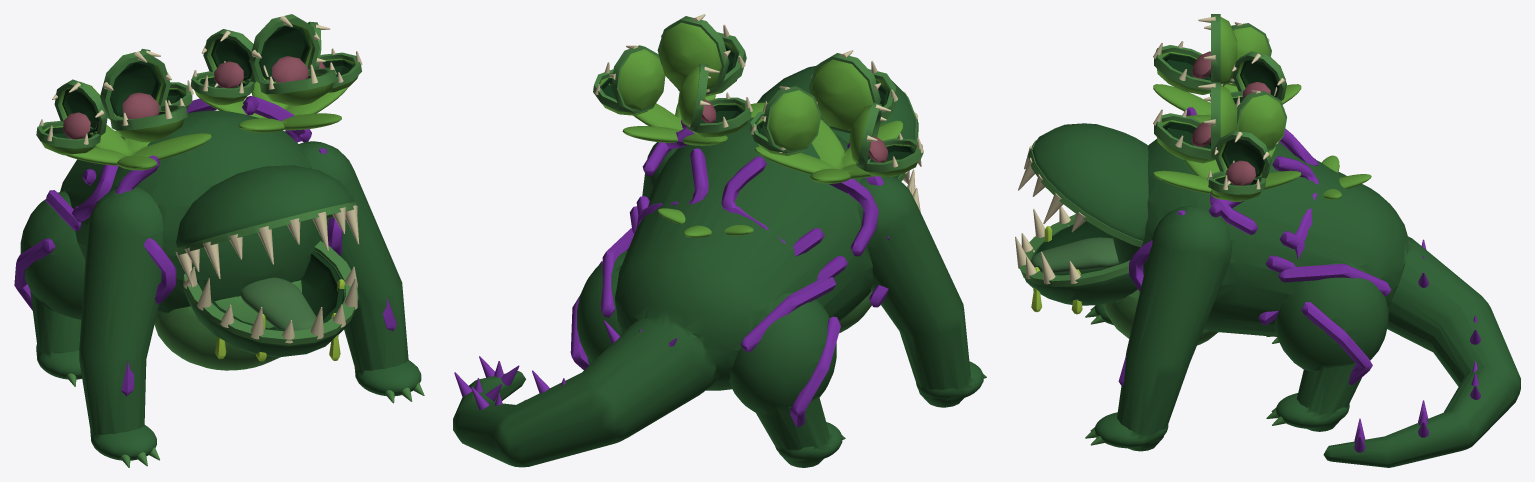
The model's file is venobulb.glb.
The picture shows the model from 3 angles, left to right: view 1: azimuth 30°, elevation 25°; view 2: azimuth 150°, elevation 25°; view 3: azimuth 270°, elevation 25°; orthographic projection. The views are drawn at different scales.
Visible parts, largest first — view 1: creature; view 2: creature; view 3: creature.
Part boxes in pixels (bbox=[...]): creature: bbox=[14, 14, 424, 467]; creature: bbox=[453, 14, 986, 467]; creature: bbox=[1015, 14, 1520, 467].
Size of the model in its own units: 1.07 by 1 by 1.36.
